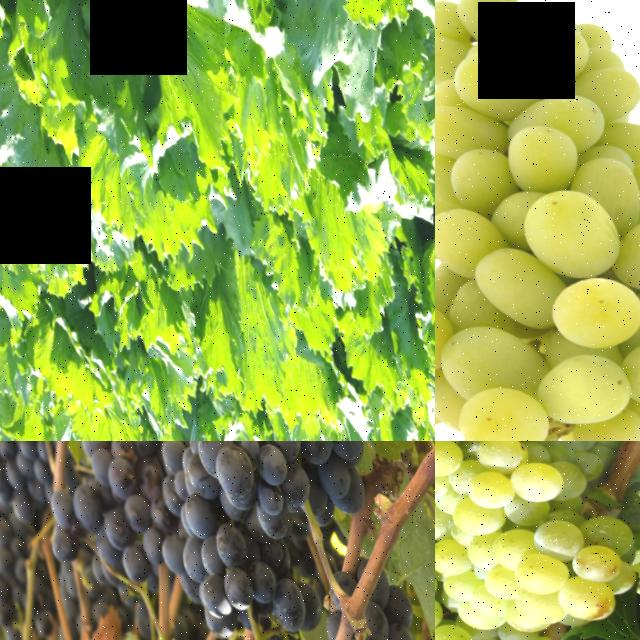grapes: (435, 0, 640, 441), (435, 441, 640, 640), (135, 441, 391, 537), (39, 441, 181, 585), (171, 496, 303, 639), (0, 441, 72, 633), (328, 600, 435, 640)
lettuce: (0, 0, 178, 276), (138, 0, 327, 218), (325, 0, 435, 279), (79, 243, 215, 436), (217, 385, 345, 441)
